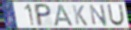1: (23, 4, 35, 27)
A: (53, 4, 75, 27)
K: (72, 4, 89, 27)
N: (88, 4, 109, 27)
P: (34, 4, 52, 28)
U: (106, 4, 125, 27)
